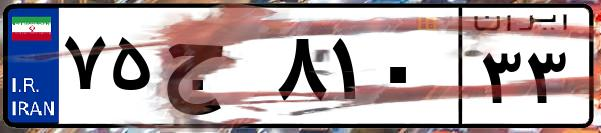0: (385, 28, 445, 110)
1: (330, 28, 385, 110)
3: (475, 38, 525, 113), (525, 38, 570, 115)
5: (110, 28, 158, 98)
7: (57, 26, 110, 100)
8: (270, 28, 330, 110)
ج: (158, 20, 270, 120)
